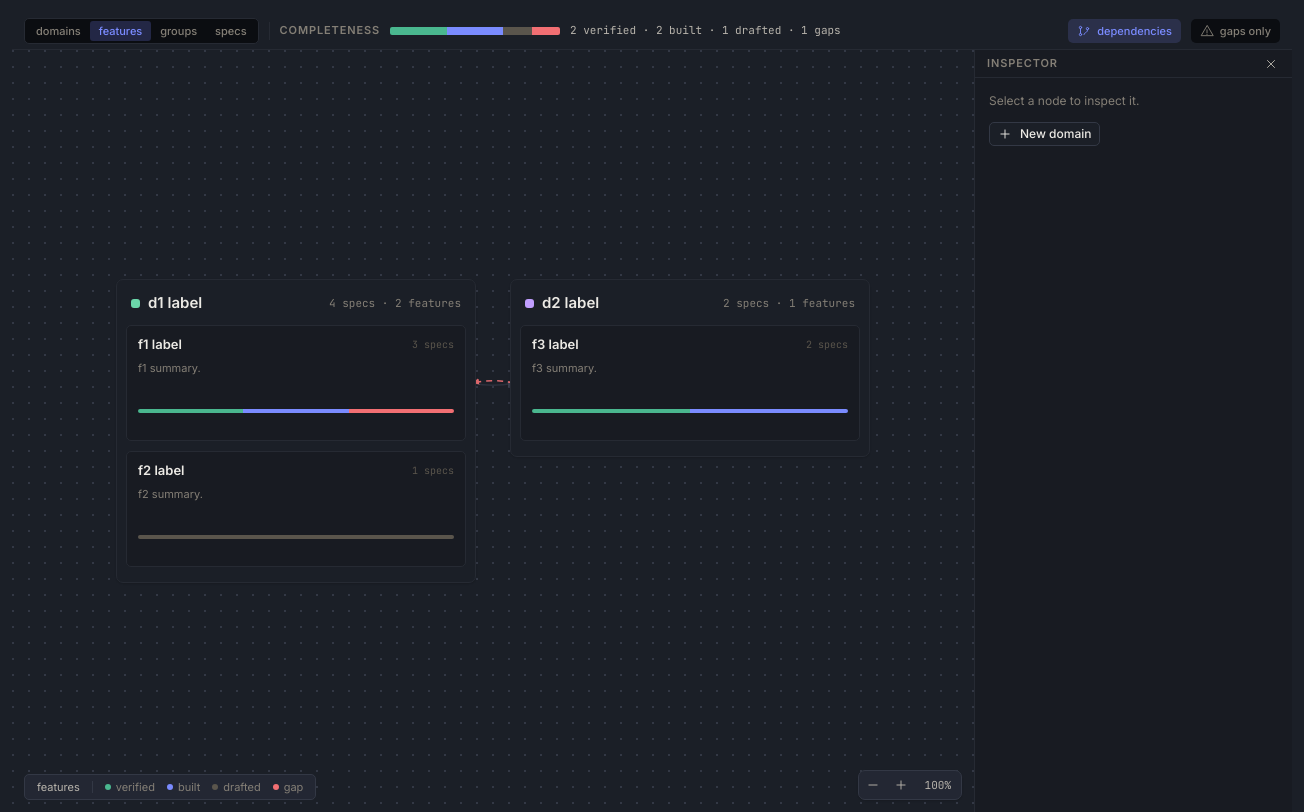
Test: the canvas (SMZ) › SMZ-FR-JWXA: plus and minus zoom by 1.18, and the percentage resets to first paint
Click the button named "Zoom in": (901, 785) left=889, top=773, right=913, bottom=797
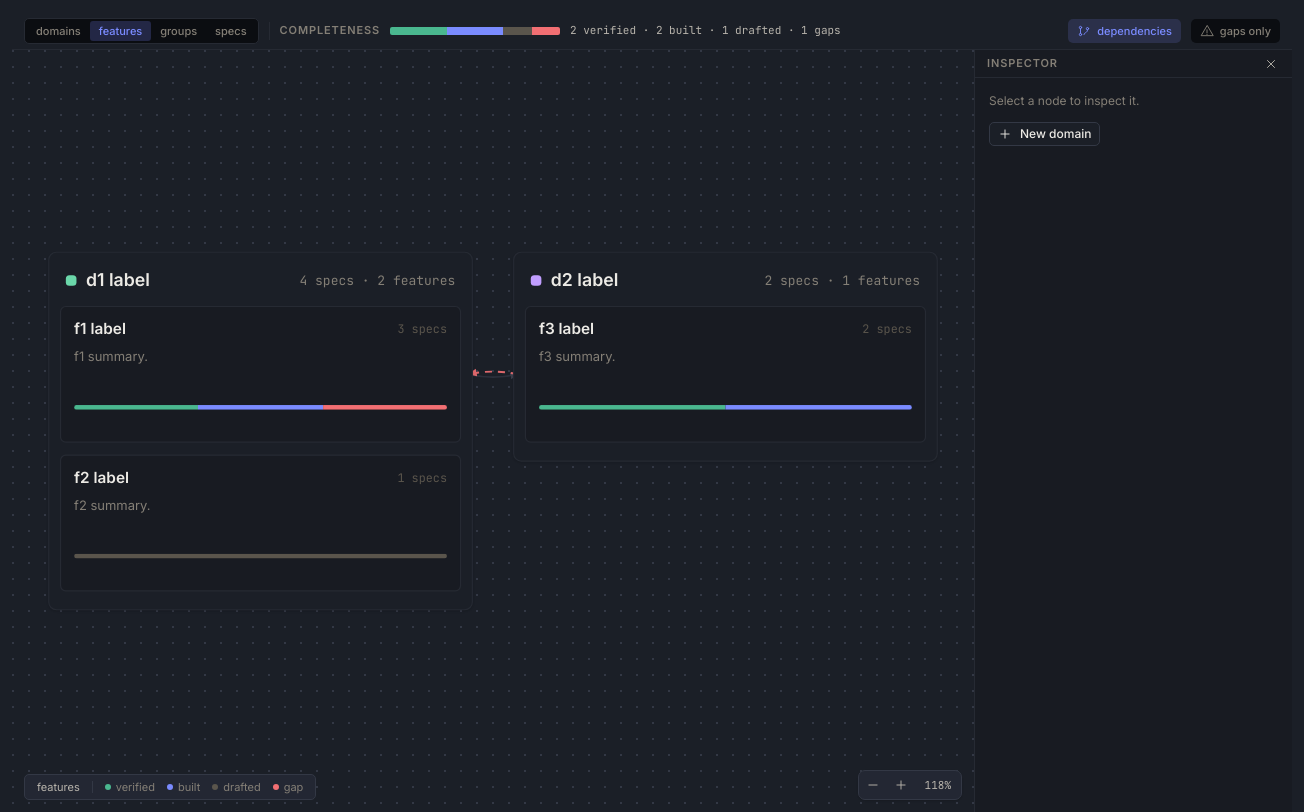
Expected: the button named "Reset view" reads "118%", left=917, top=773, right=959, bottom=797
Click the button named "Zoom out": (873, 785) left=861, top=773, right=885, bottom=797
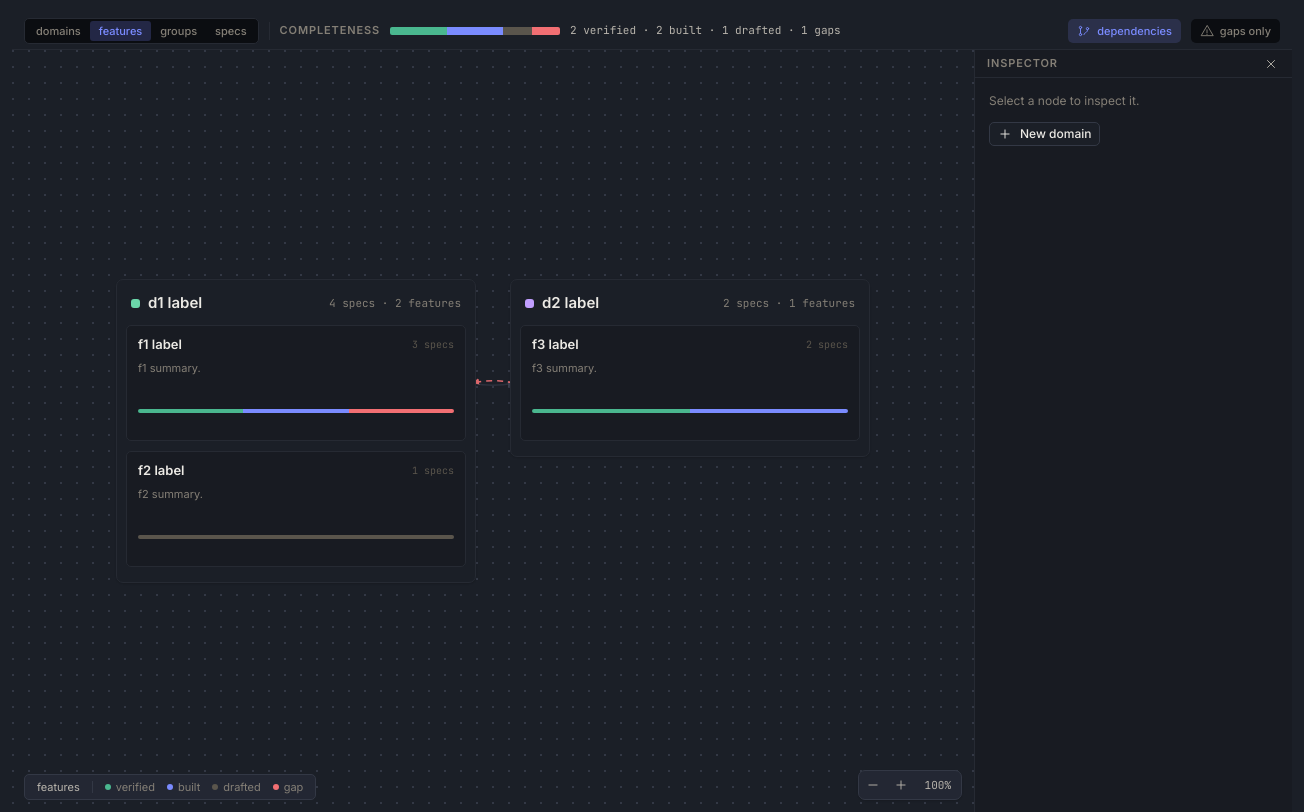
Click the button named "Reset view": (938, 785) left=917, top=773, right=959, bottom=797
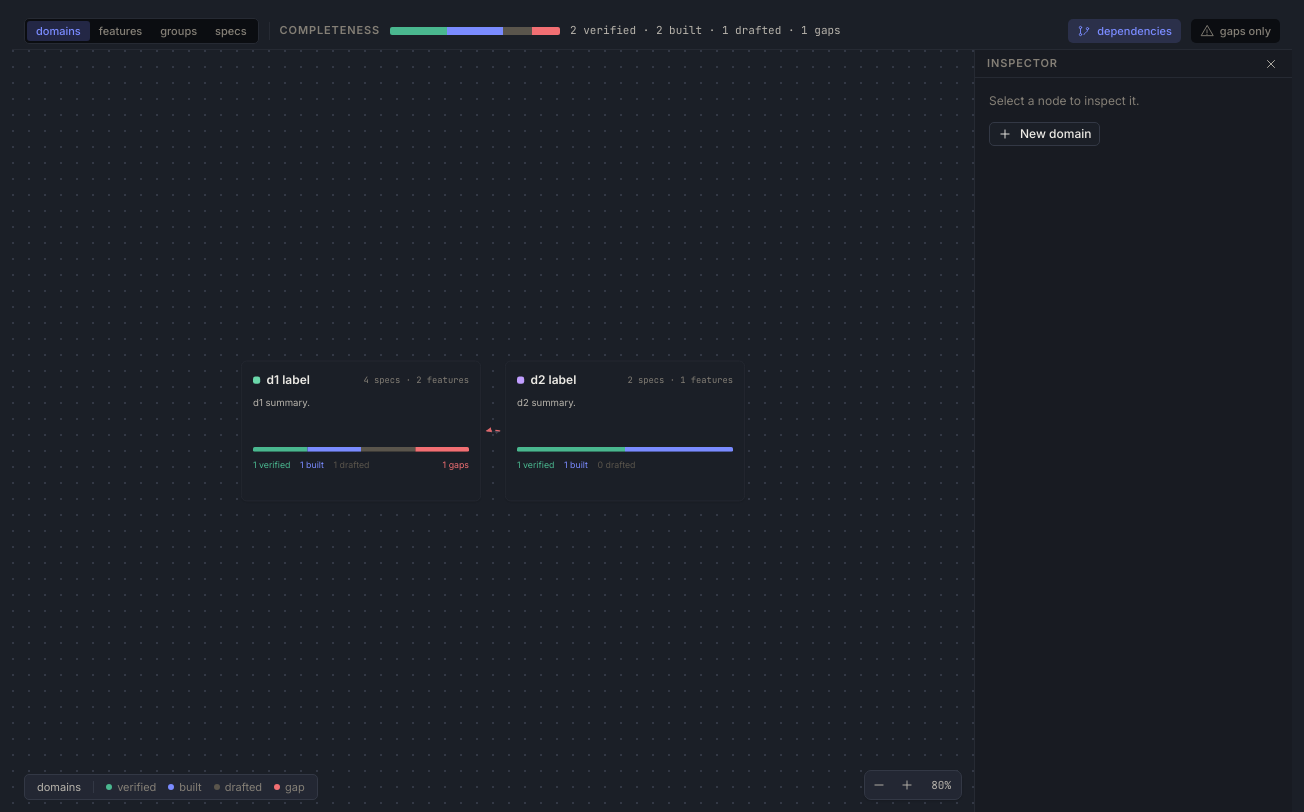
Expected: the button named "Reset view" reads "80%", left=923, top=773, right=959, bottom=797
